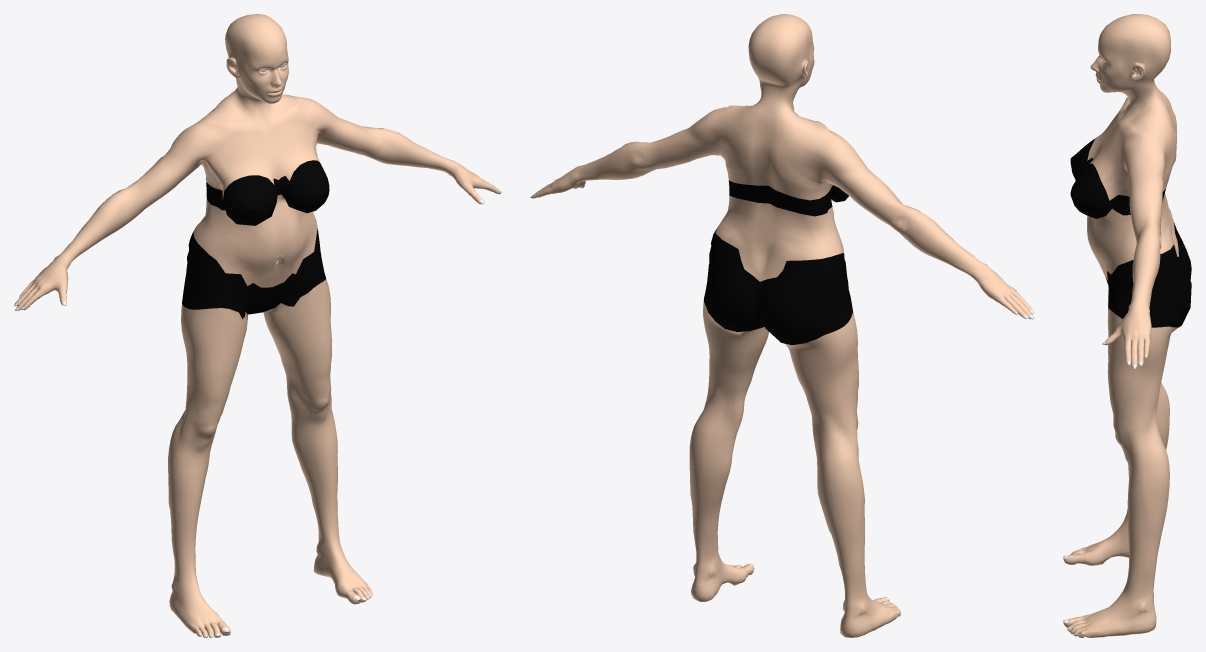
The model's file is Women_XL.glb.
The picture shows the model from 3 angles, left to right: view 1: azimuth 30°, elevation 25°; view 2: azimuth 150°, elevation 25°; view 3: azimuth 270°, elevation 25°; orthographic projection. The views are drawn at different scales.
Visible parts, largest first — view 1: f_ca01; view 2: f_ca01; view 3: f_ca01.
Boxes of the visible parts, box(x1,y1,x2,y2) form: f_ca01: box(14, 14, 501, 637); f_ca01: box(530, 14, 1034, 637); f_ca01: box(1063, 14, 1191, 637).
Size of the model in its own units: 1.48 by 1.68 by 0.3367.
Materials: 10 (1 with a texture image).
